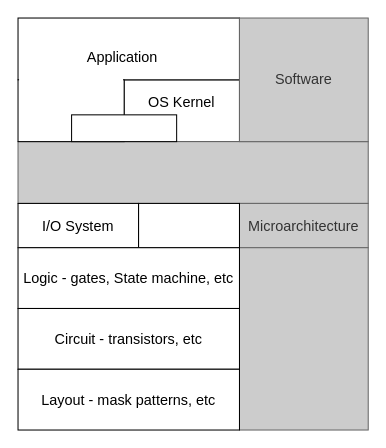
Some shapes in this 386 by 448 pixel diagram are drawn without their labels. The centre of each missing label's shape, as x and y in pixels:
Compiler: [124,128]
Hardware: [303,338]
Instruction Set Architecture: [192,172]
Processor: [188,225]
